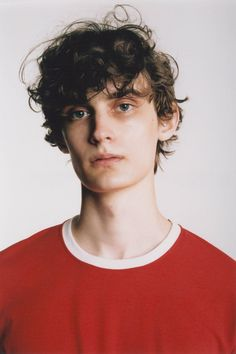NoMask: (66, 87, 151, 191)
